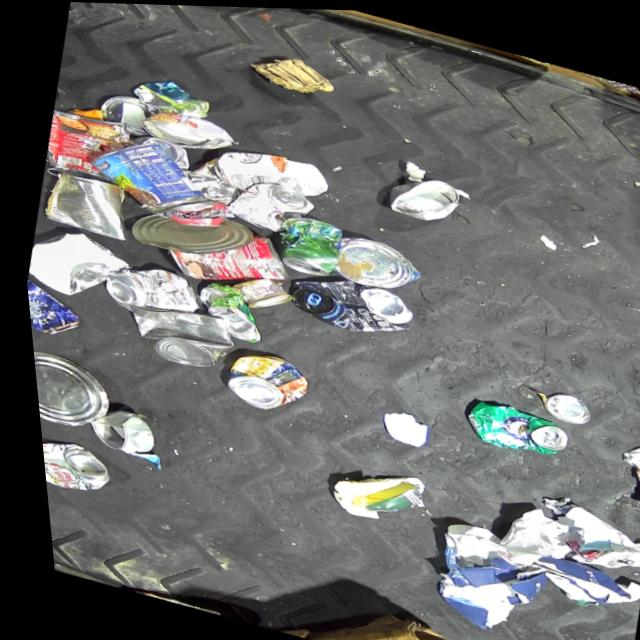can: (75, 127, 215, 227), (155, 209, 292, 301), (279, 262, 414, 344), (111, 291, 236, 375), (121, 193, 252, 269), (26, 344, 114, 438), (33, 164, 136, 242), (93, 253, 201, 327), (452, 392, 566, 461), (37, 103, 132, 185), (212, 342, 308, 418), (217, 171, 316, 240), (325, 227, 423, 296), (132, 101, 236, 159), (264, 210, 344, 281), (32, 428, 109, 500), (380, 164, 466, 227), (184, 277, 265, 343), (74, 400, 151, 458), (21, 275, 85, 342), (221, 267, 290, 316), (91, 87, 155, 137), (119, 586, 216, 616), (124, 130, 191, 169), (533, 384, 587, 423)
